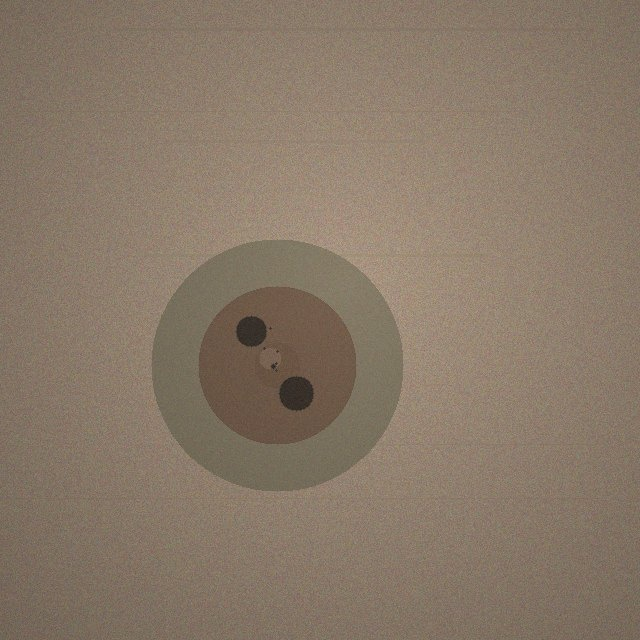shrinkage: (151, 239, 403, 491)
